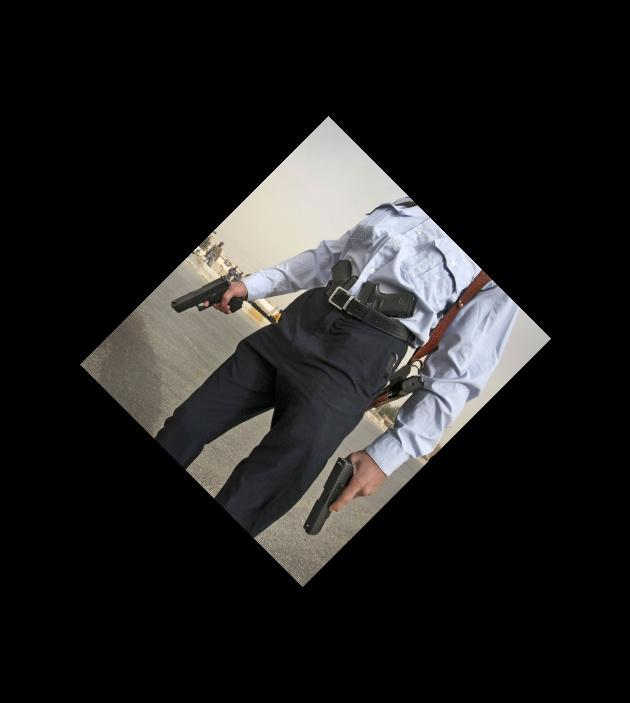weapon: (167, 267, 246, 323)
